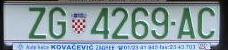.: (170, 20, 175, 26)
2: (110, 7, 129, 40)
4: (89, 7, 110, 39)
6: (131, 7, 149, 40)
9: (150, 7, 169, 40)
A: (177, 7, 196, 40)
C: (198, 7, 217, 39)
G: (48, 6, 67, 40)
Z: (28, 7, 47, 39)
